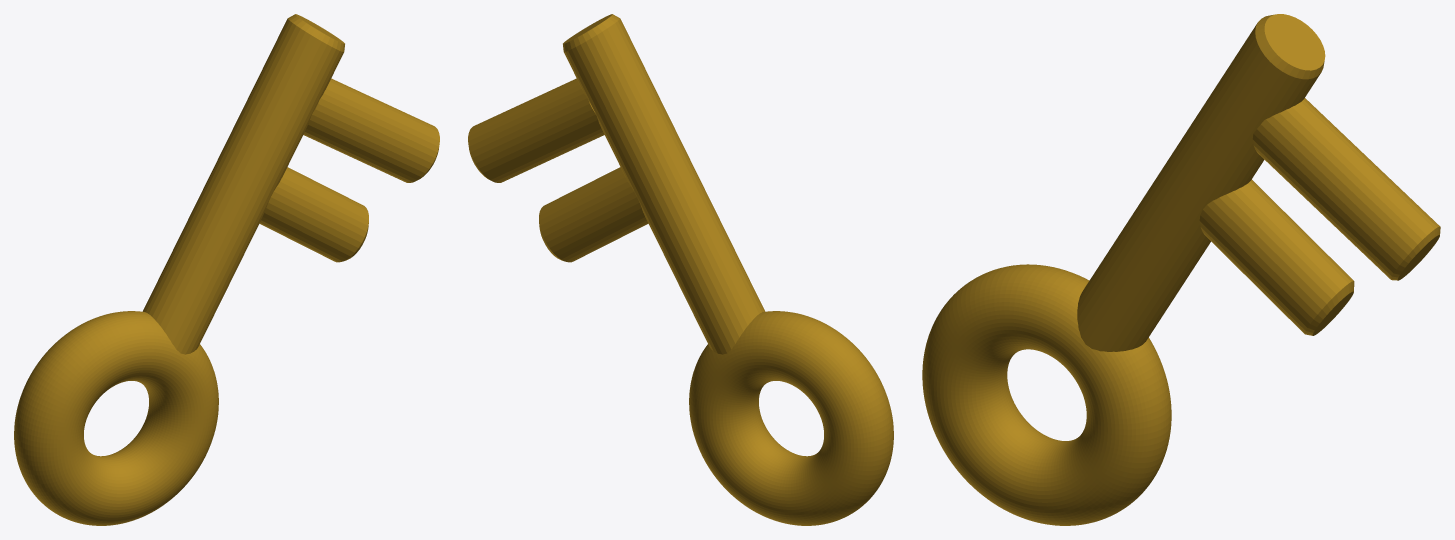
Rendered from key.fbx.
The picture shows the model from 3 angles, left to right: view 1: azimuth 30°, elevation 25°; view 2: azimuth 150°, elevation 25°; view 3: azimuth 330°, elevation 25°; orthographic projection. The views are drawn at different scales.
Parts seen in each view (by area): view 1: Torus; view 2: Torus; view 3: Torus.
Boxes of the visible parts, bbox=[...] form: Torus: bbox=[14, 14, 439, 525]; Torus: bbox=[468, 14, 893, 525]; Torus: bbox=[922, 14, 1440, 525].
Bounding box in the file's own units: 524 × 76.13 × 550.
